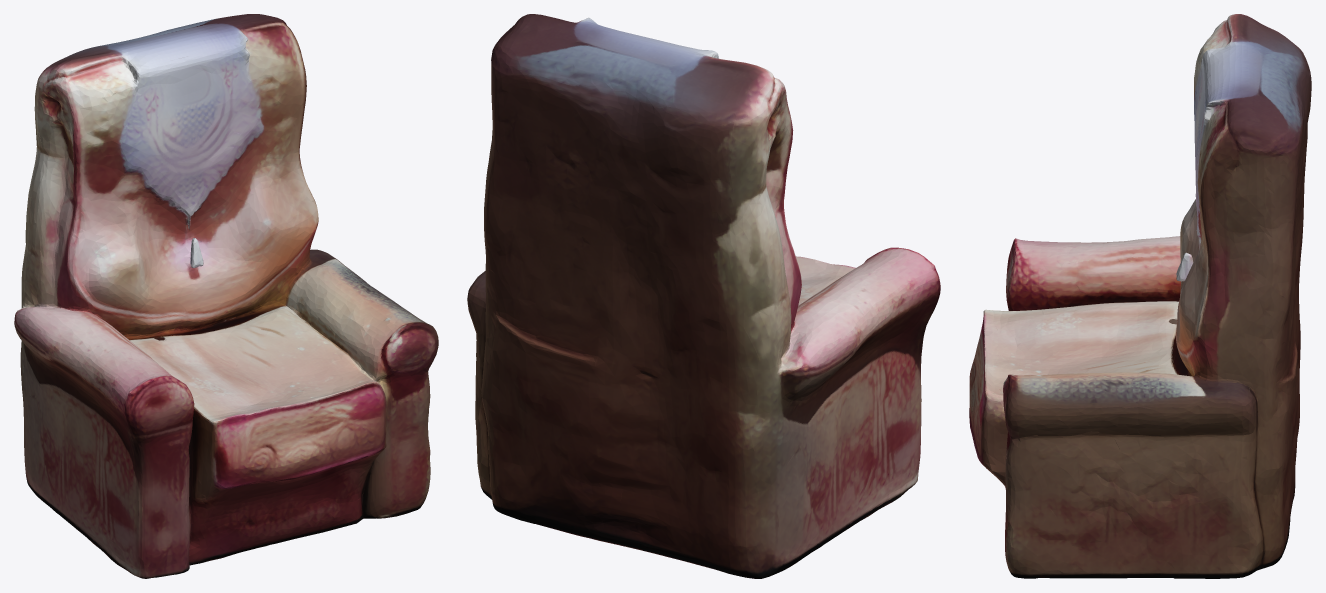
The model's file is throne.glb.
3 views of the same model, side by side, from view 1: azimuth 30°, elevation 25°; view 2: azimuth 150°, elevation 25°; view 3: azimuth 270°, elevation 25° (orthographic). The views are drawn at different scales.
Parts seen in each view (by area): view 1: world; view 2: world; view 3: world.
Boxes of the visible parts, left/top/right/bottom form: world: left=14, top=14, right=438, bottom=578; world: left=467, top=14, right=940, bottom=578; world: left=969, top=14, right=1311, bottom=578.
Size of the model in its own units: 0.7638 by 0.9986 by 0.6951.
Materials: 1 (1 with a texture image).
